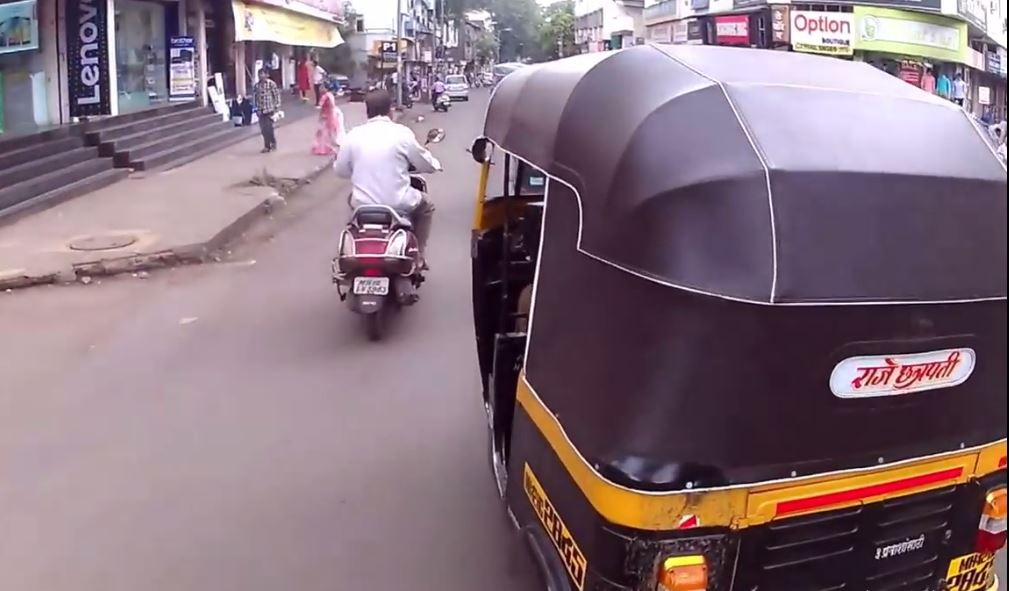autorickshaw: (459, 34, 1009, 589)
car: (443, 69, 471, 106)
